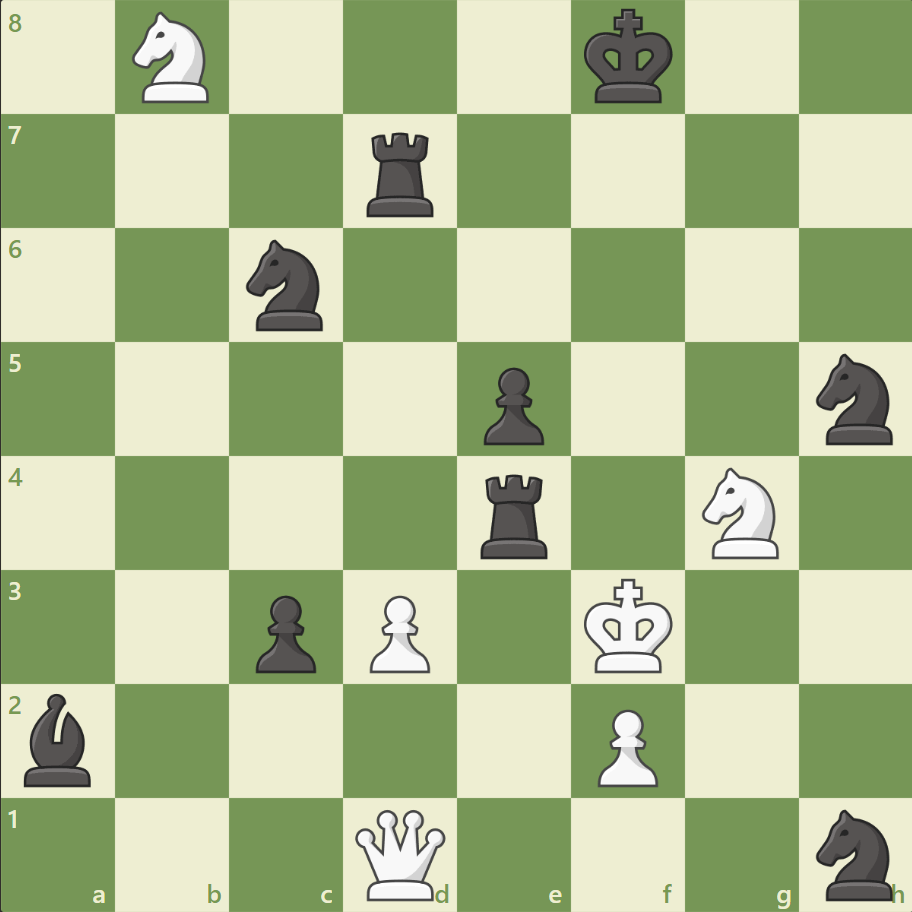K: (579, 571, 679, 679)
N: (124, 7, 222, 110), (692, 461, 789, 564)
P: (361, 586, 435, 677), (588, 700, 662, 791)
Q: (351, 804, 450, 903)
b: (17, 687, 101, 790)
k: (579, 4, 679, 112)
n: (238, 234, 335, 337), (806, 348, 903, 450), (806, 802, 903, 904)
p: (474, 359, 549, 450), (247, 586, 322, 677)
r: (473, 466, 556, 563), (360, 125, 442, 222)
